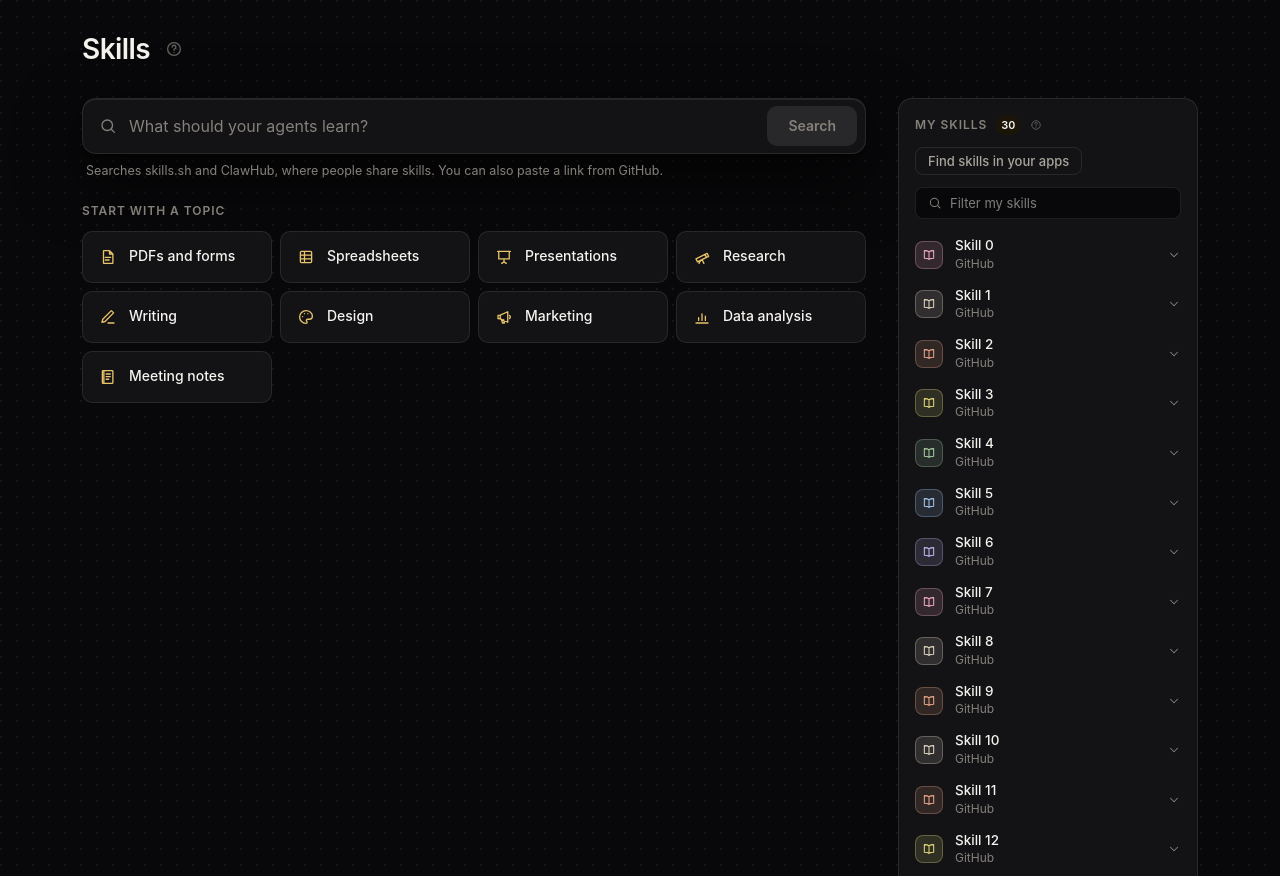
Test: My skills › keeps Find skills in your apps above a long list, as the one way to the skills your apps have
Expected: the heading "My skills 30" is shown, [915,115,1022,135]
Click the button named "About My skills": (1036, 125) [1028,116,1046,134]
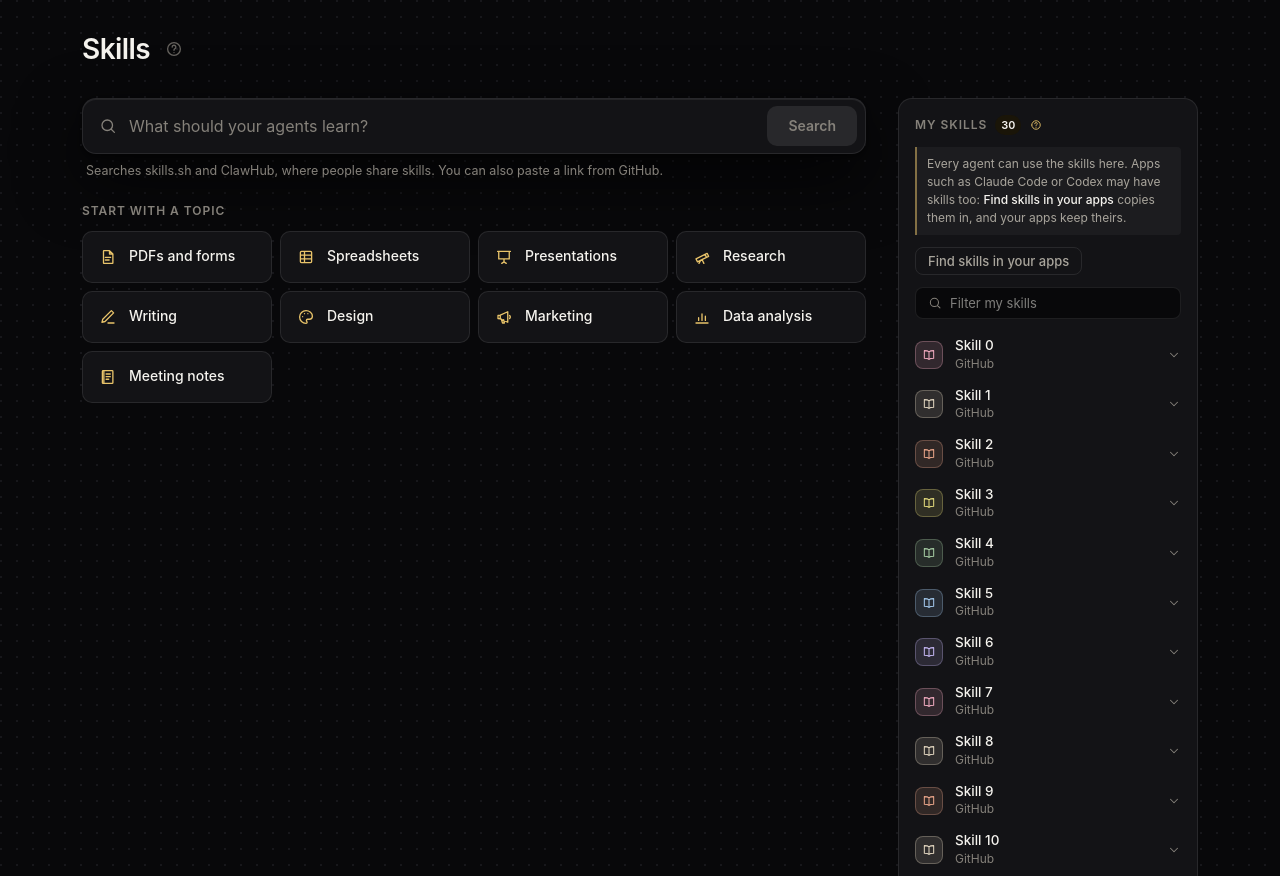
Expected: the text "Claude Code or Codex may have skills too: Find skills in your apps copies them in" is shown, [915,147,1181,235]
